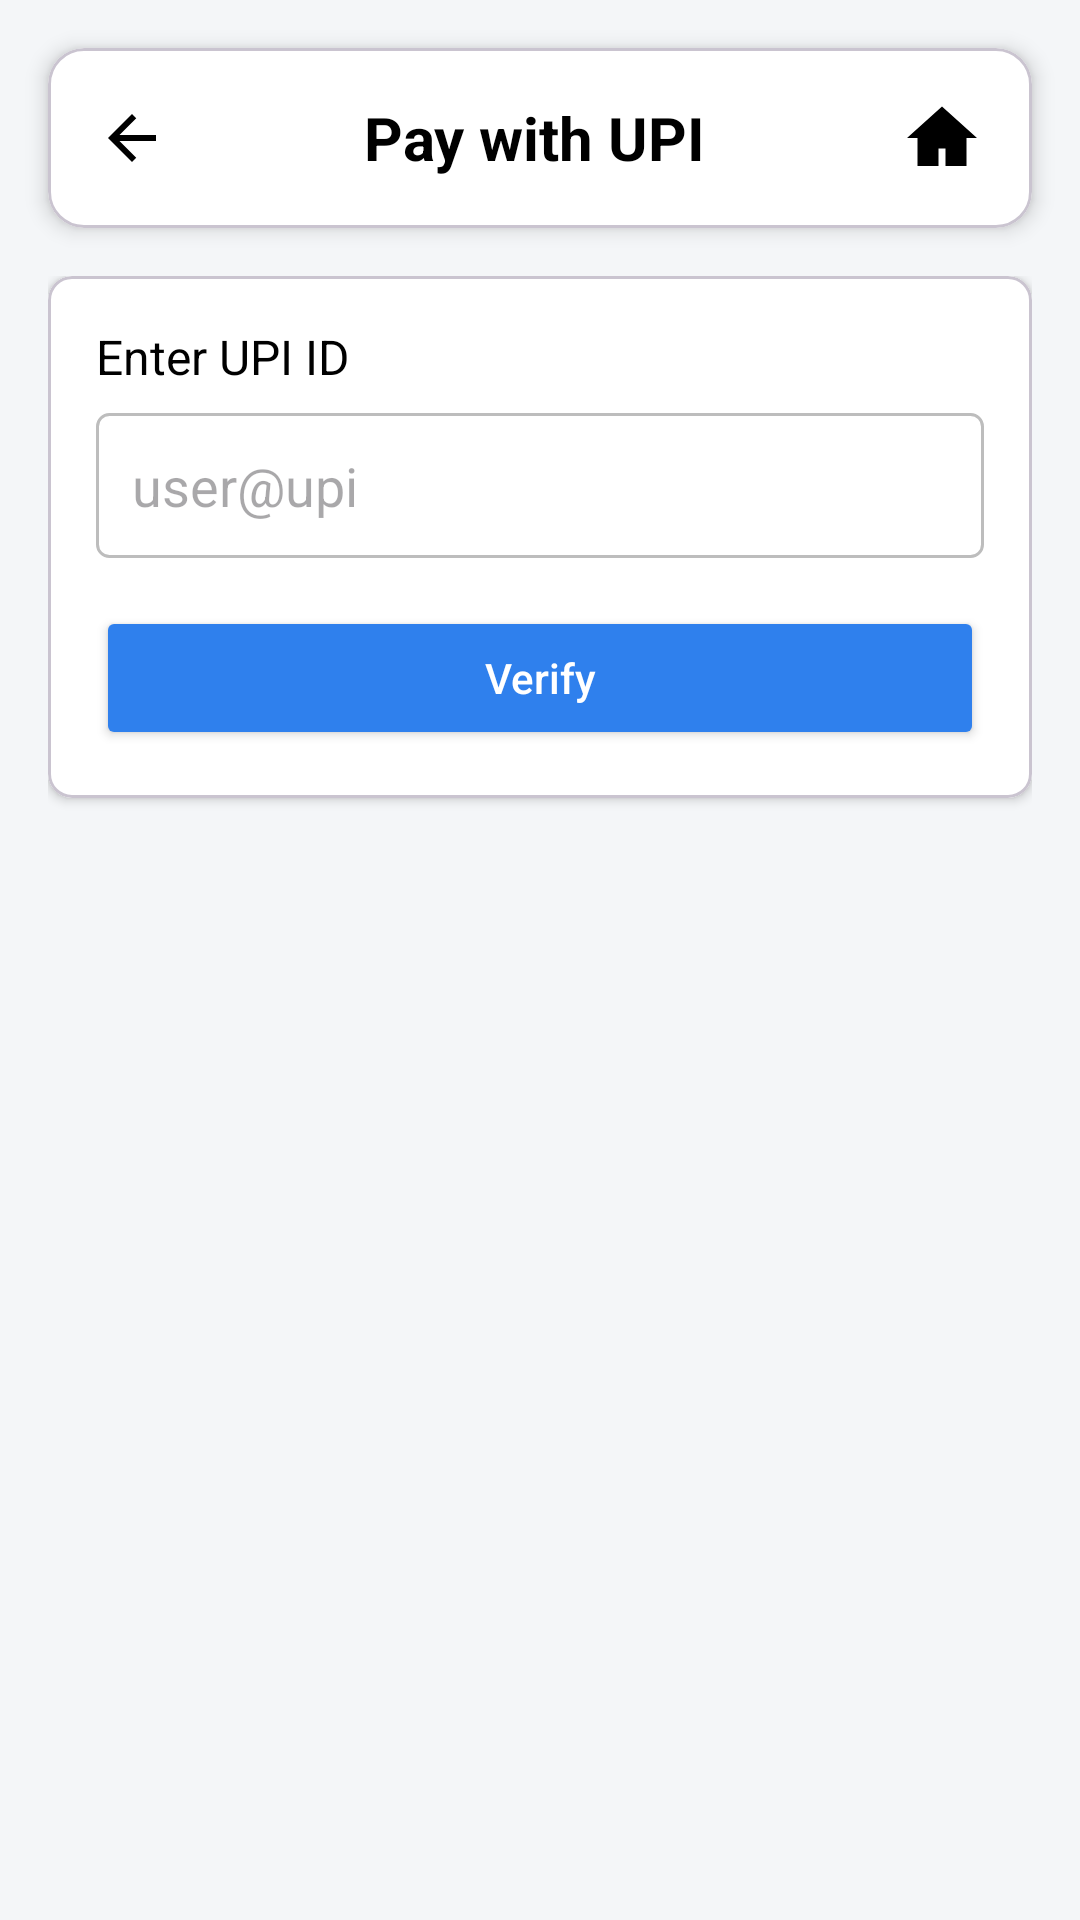

Named icons in this screenshot (1080 x 1920) and their centers, point (x, y):
arrow back: point (132, 138)
home: point (942, 136)
